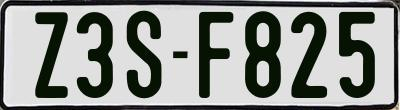2: (291, 12, 328, 100)
3: (77, 10, 113, 97)
5: (338, 9, 377, 97)
8: (242, 10, 281, 98)
F: (197, 9, 237, 96)
S: (126, 10, 162, 102)
Z: (34, 10, 73, 97)
